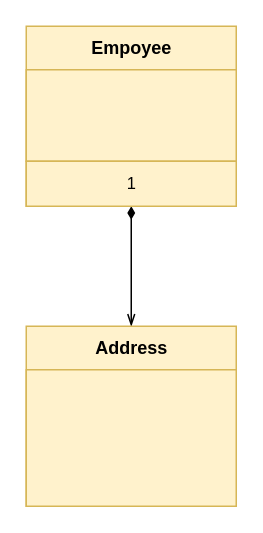
The diagram is 263 pixels wide and 533 high, and some of its shapes have lost their labels. The centre of each missing label's shape, as x and y in pixels:
"+ id:inte + name:string + address: Address" belongs at (130,114).
"+ street:string + street2:string + city:string + state: string + zipcode:string" belongs at (130,437).
